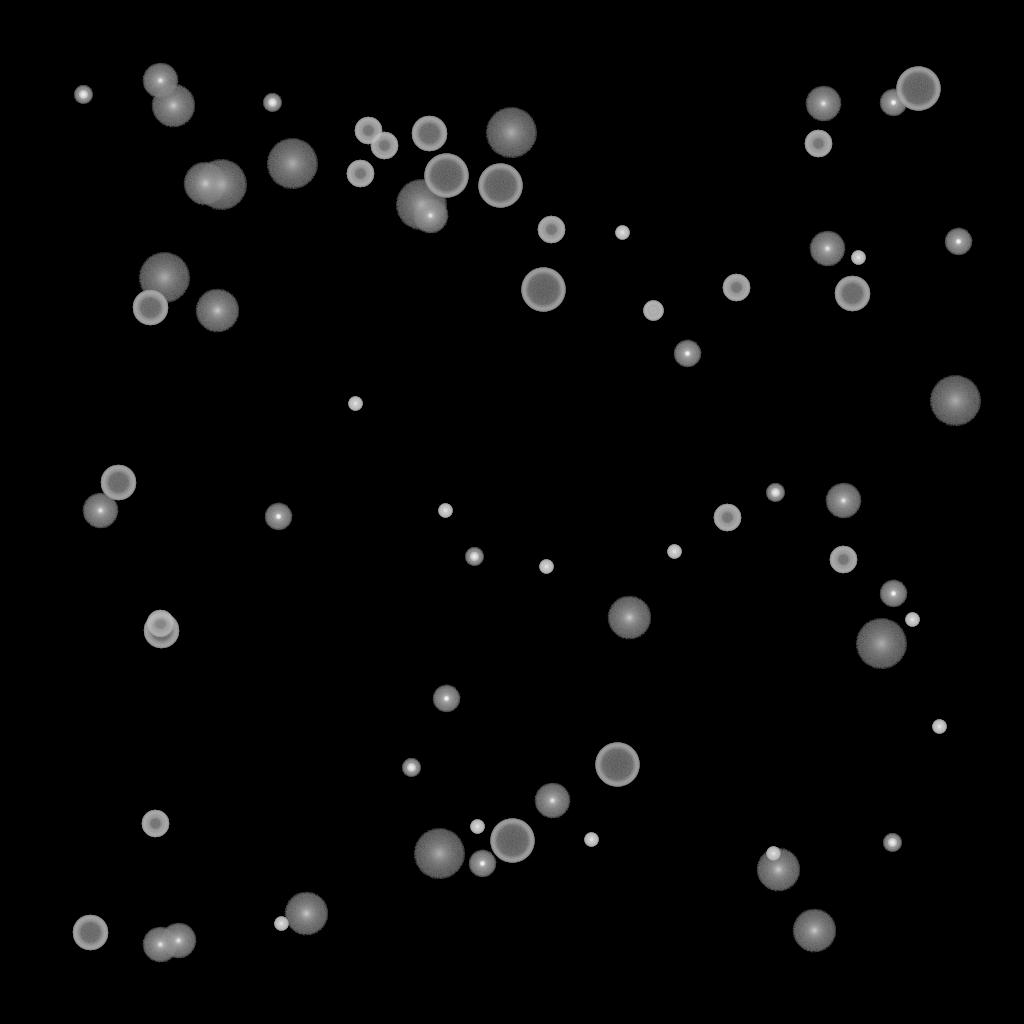depth:-10: (944, 228, 972, 256), (468, 850, 496, 878), (264, 503, 292, 531), (879, 580, 907, 608), (673, 340, 701, 368), (432, 685, 460, 713), (879, 89, 907, 117)
depth:-20: (766, 484, 784, 502), (263, 94, 281, 112), (883, 834, 901, 852), (465, 548, 483, 566), (402, 759, 420, 777), (74, 86, 92, 104)
depth:-30: (851, 251, 865, 265), (905, 613, 919, 627), (274, 917, 288, 931), (766, 847, 780, 861), (667, 545, 681, 559), (348, 397, 362, 411), (584, 833, 598, 847), (932, 720, 946, 734), (470, 820, 484, 834), (615, 226, 629, 240), (438, 504, 452, 518), (539, 560, 553, 574)
depth:-40: (643, 301, 663, 321)
depth:-50: (829, 546, 857, 574), (354, 117, 382, 145), (146, 610, 174, 638), (537, 216, 565, 244), (141, 810, 169, 838), (713, 504, 741, 532), (346, 160, 374, 188), (722, 274, 750, 302), (370, 132, 398, 160), (804, 130, 832, 158)
depth:-60: (100, 465, 136, 501), (132, 290, 168, 326), (143, 613, 179, 649), (411, 116, 447, 152), (834, 276, 870, 312), (72, 915, 108, 951)
depth:-70: (490, 819, 534, 863), (896, 67, 940, 111), (521, 268, 565, 312), (478, 164, 522, 208), (595, 743, 639, 787), (424, 154, 468, 198)
depth:0: (805, 86, 841, 122), (142, 927, 178, 963), (534, 783, 570, 819), (82, 493, 118, 529), (412, 198, 448, 234), (160, 923, 196, 959), (809, 231, 845, 267), (142, 63, 178, 99), (825, 483, 861, 519)
depth:10: (151, 84, 195, 128), (195, 289, 239, 333), (792, 909, 836, 953), (284, 892, 328, 936), (756, 848, 800, 892), (183, 162, 227, 206), (607, 596, 651, 640)
depth:20: (929, 376, 981, 426), (485, 108, 537, 158), (195, 160, 247, 210), (395, 180, 447, 230), (266, 139, 318, 189), (855, 619, 907, 669), (138, 253, 190, 303), (413, 829, 465, 879)
